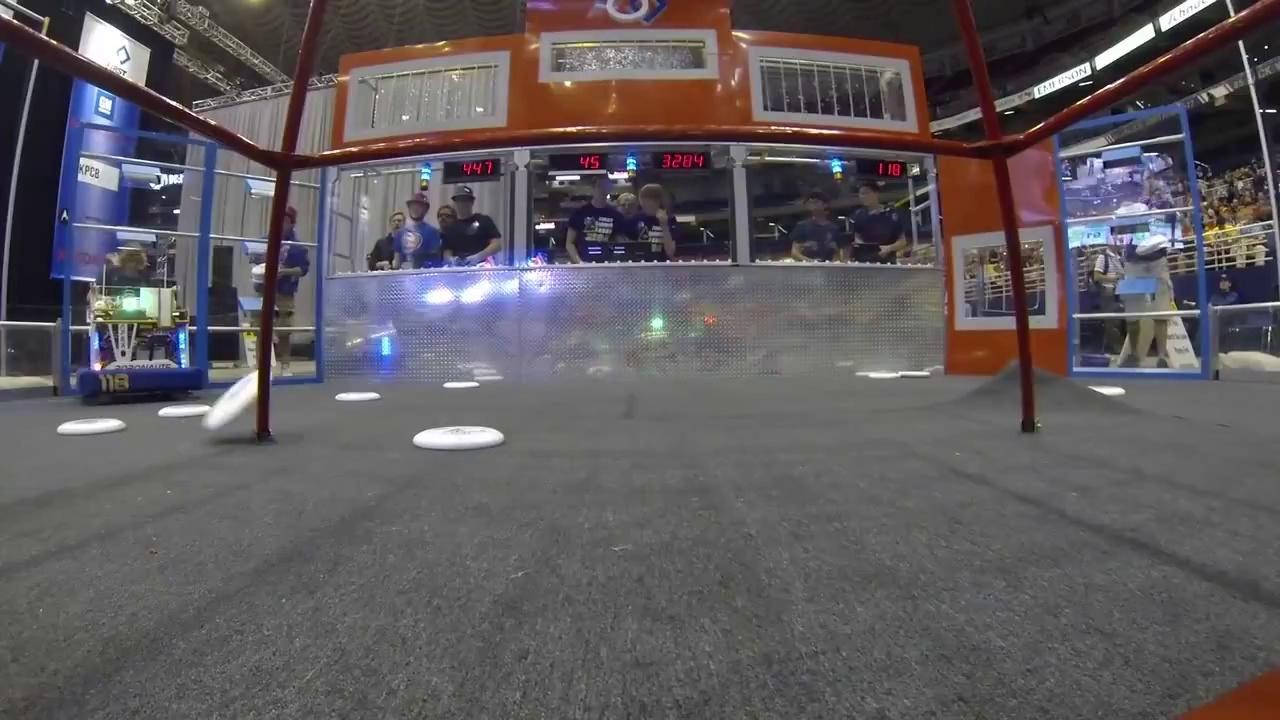robot: (66, 284, 212, 401)
